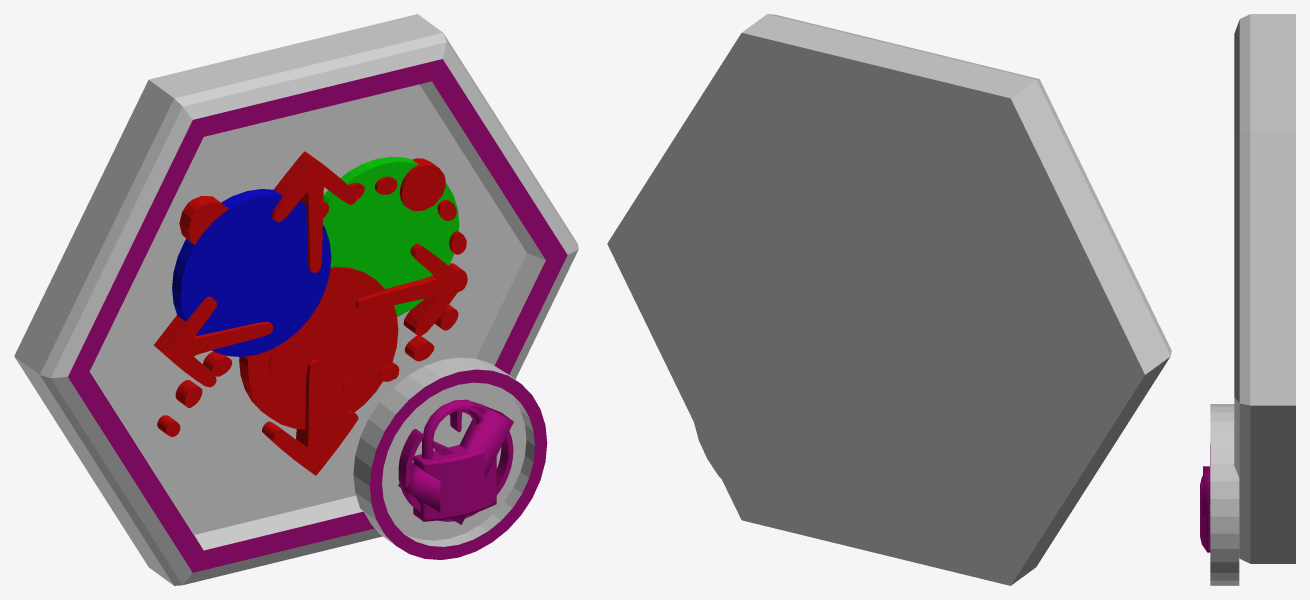
Rendered from kColor_timed.dae.
3 renders of one model, left to right at view 1: azimuth 30°, elevation 25°; view 2: azimuth 150°, elevation 25°; view 3: azimuth 270°, elevation 25°, orthographic. The views are drawn at different scales.
Visible parts, largest first — view 1: node, Planar, Hamiltonian, Lock, Checkmark; view 2: node; view 3: node, Lock, Checkmark.
Boxes of the visible parts, bbox=[...] form: node: bbox=[14, 14, 578, 585]; Planar: bbox=[153, 151, 466, 475]; Hamiltonian: bbox=[157, 158, 467, 436]; Lock: bbox=[413, 399, 496, 521]; Checkmark: bbox=[398, 404, 513, 524]; node: bbox=[607, 14, 1171, 585]; node: bbox=[1210, 14, 1295, 585]; Lock: bbox=[1200, 443, 1210, 552]; Checkmark: bbox=[1203, 466, 1210, 518].
Bounding box in the file's own units: 2 × 0.3477 × 1.8.
